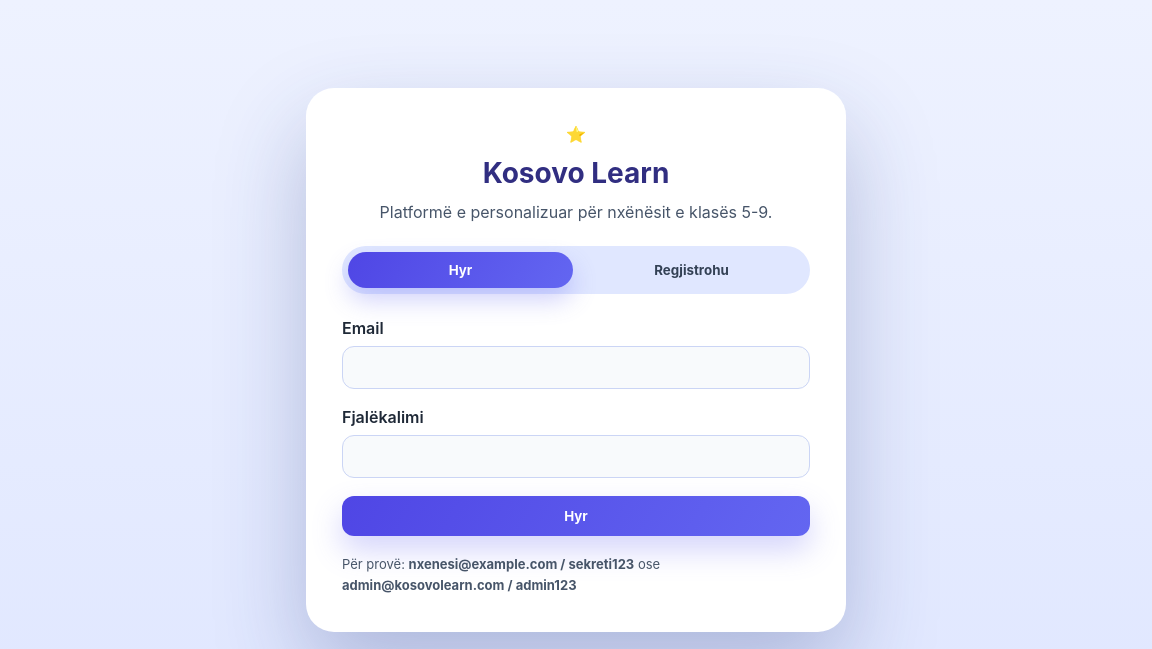
Test: App › administratori kalon në panelin e stafit
The image size is (1152, 649).
Type "admin@kosovolearn.com" into the field labelled "Email".
click(576, 368); type("admin@kosovolearn.com")  # box left=342, top=346, right=810, bottom=389
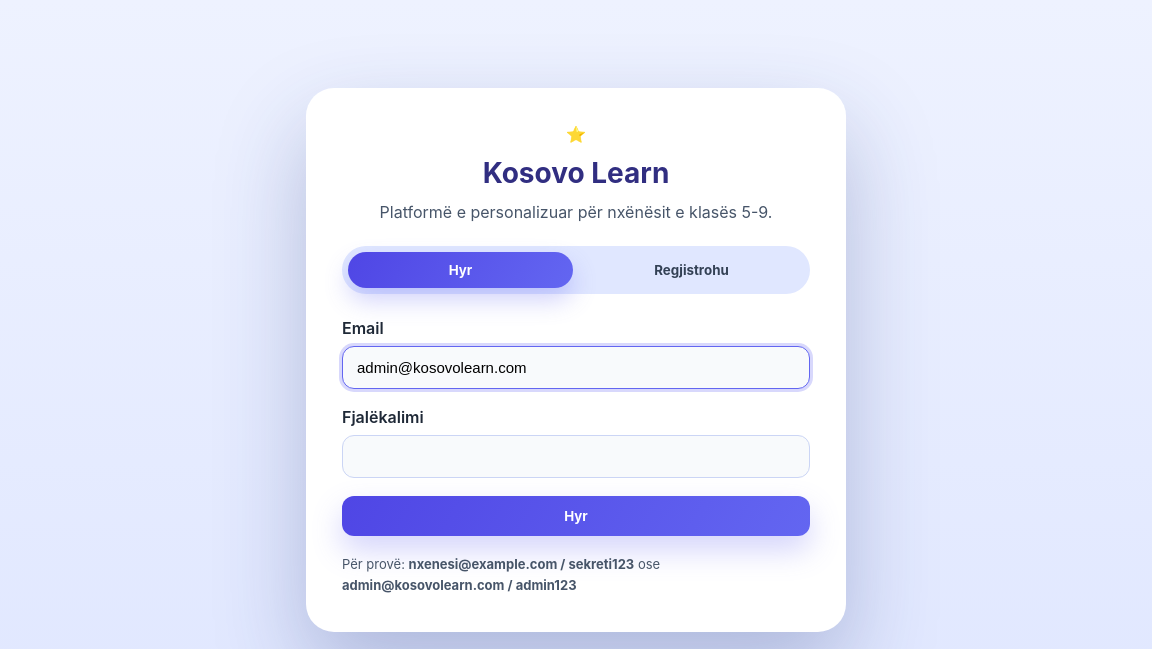
Type "admin123" into the password field labelled "Fjalëkalimi".
click(576, 457); type("admin123")  # box left=342, top=435, right=810, bottom=478
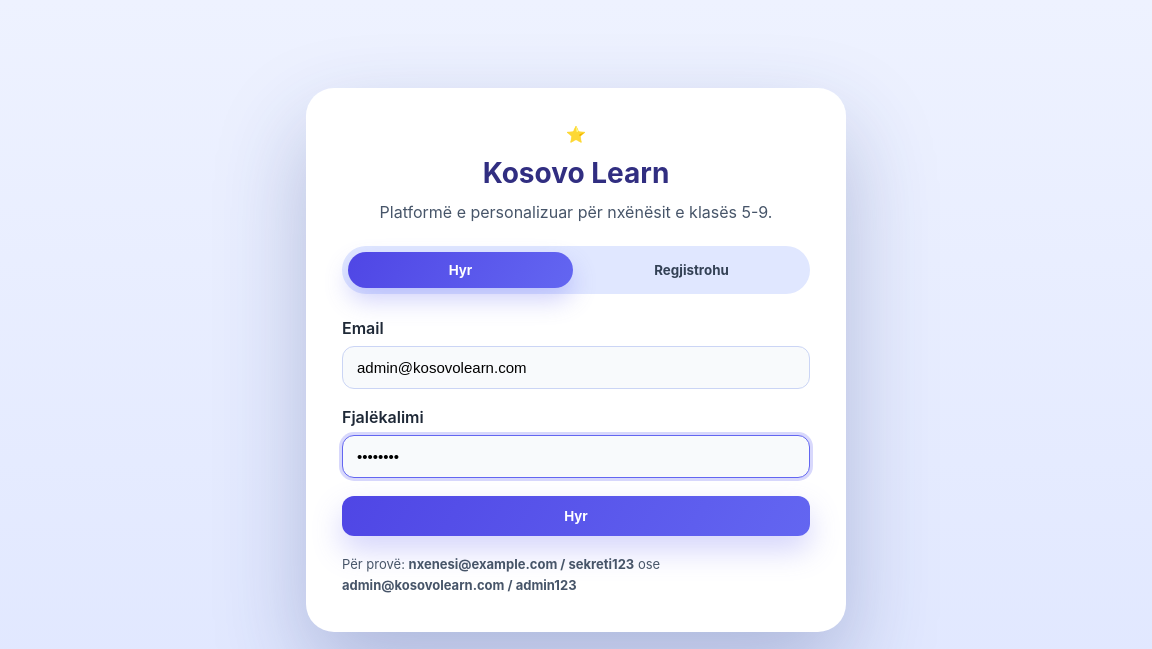
Click the button "Hyr" below "Fjalëkalimi".
click(576, 516)  # box left=342, top=496, right=810, bottom=536
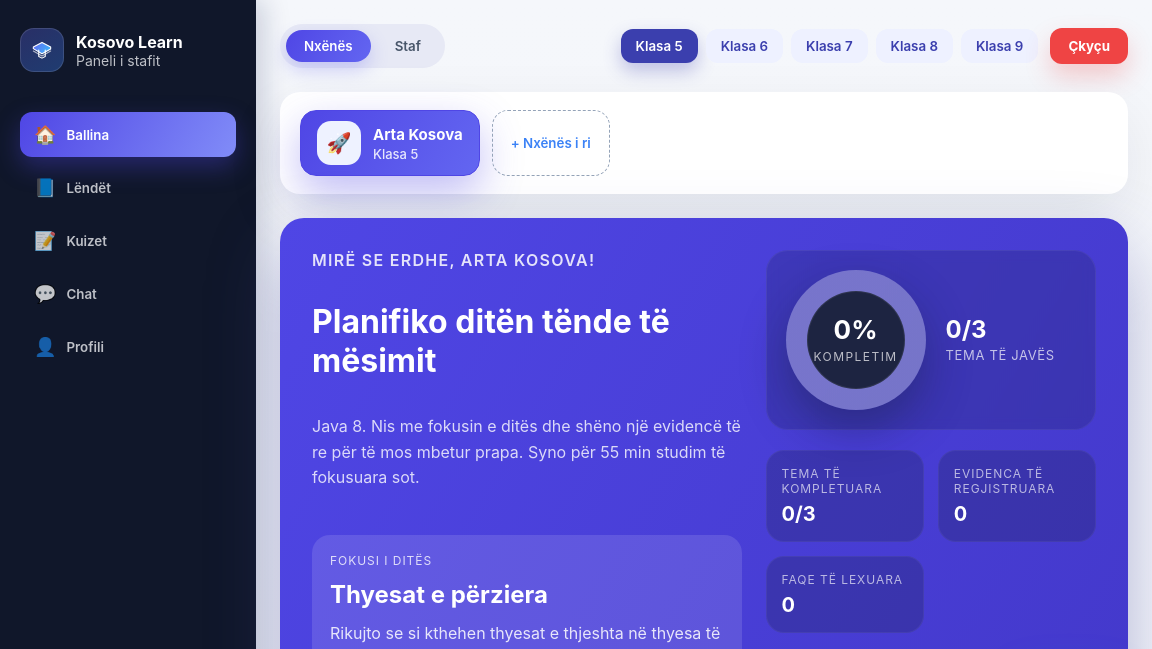
Click the button "Staf".
click(408, 46)  # box left=377, top=30, right=439, bottom=62
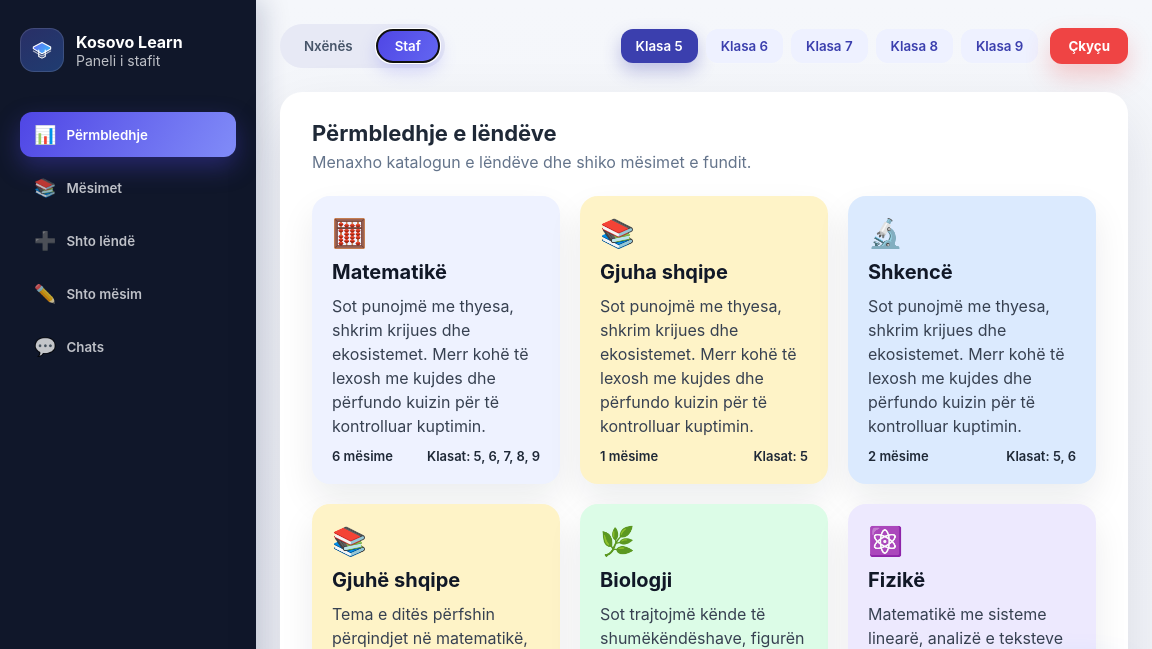
Expected: the heading "Përmbledhje e lëndëve" is shown, left=312, top=120, right=557, bottom=146
Expected: the button "➕ Shto lëndë" is shown, left=20, top=218, right=236, bottom=263
